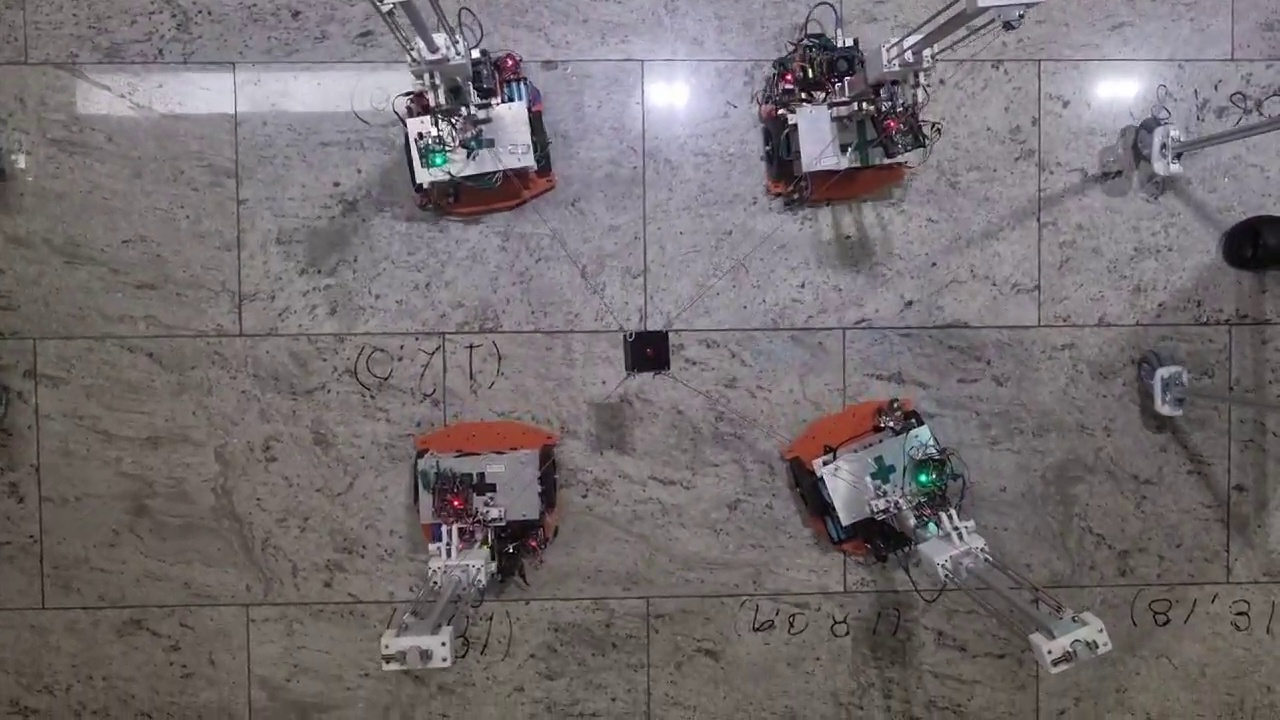e0: (627, 330, 669, 372)
r1: (790, 408, 941, 517)
r2: (763, 97, 910, 180)
r3: (404, 108, 551, 179)
r4: (414, 446, 556, 509)
y_+_axis_vector: (642, 59, 1038, 61)
y_-_axis_vector: (234, 60, 642, 63)
